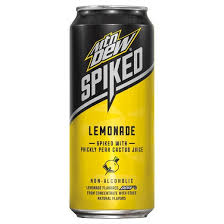can: (66, 3, 157, 220)
